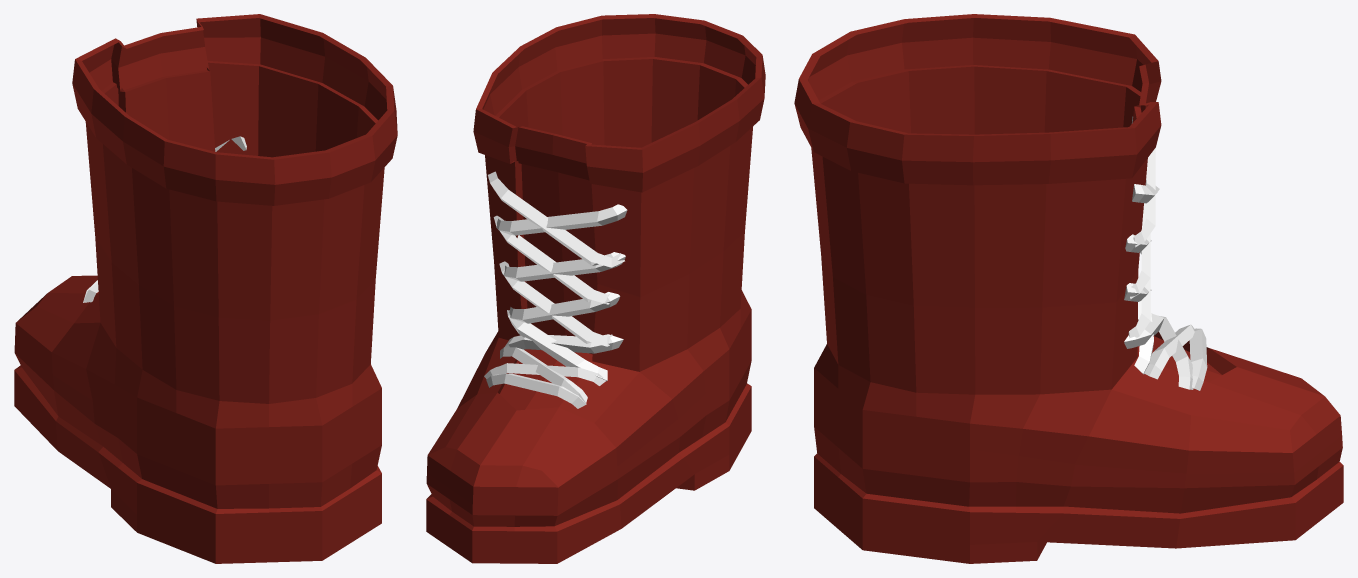
Rendered from laceupbootsleft.fbx.
3 renders of one model, left to right at view 1: azimuth 30°, elevation 25°; view 2: azimuth 150°, elevation 25°; view 3: azimuth 270°, elevation 25°, orthographic. The views are drawn at different scales.
Parts seen in each view (by area): view 1: left11; view 2: left11; view 3: left11.
Part boxes in pixels (<box>): left11: <box>14,14,397,563</box>; left11: <box>426,14,765,563</box>; left11: <box>794,14,1343,563</box>.
Bounding box in the file's own units: 24.91 × 40.42 × 46.45.
